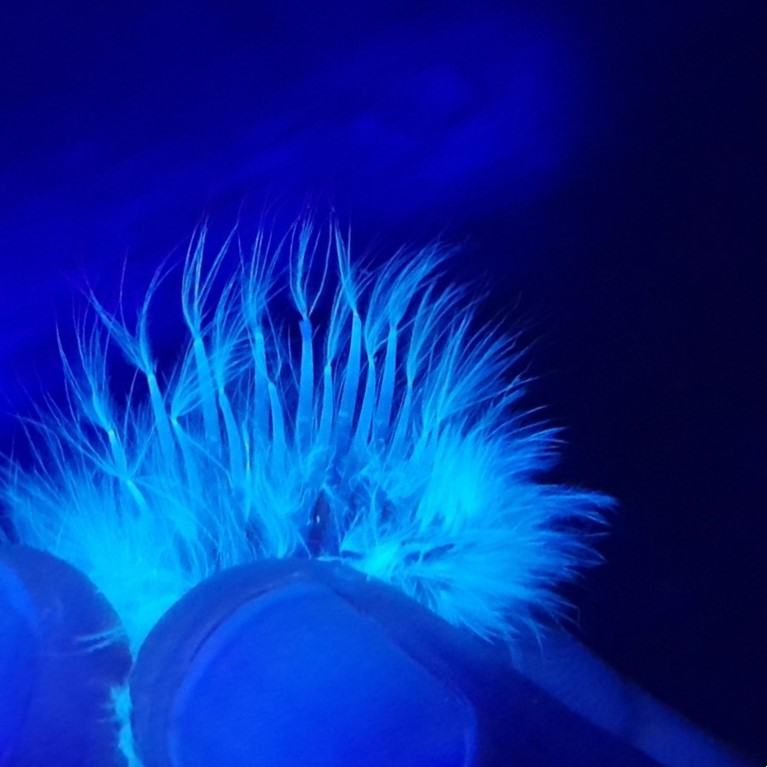female: (126, 295, 438, 597)
